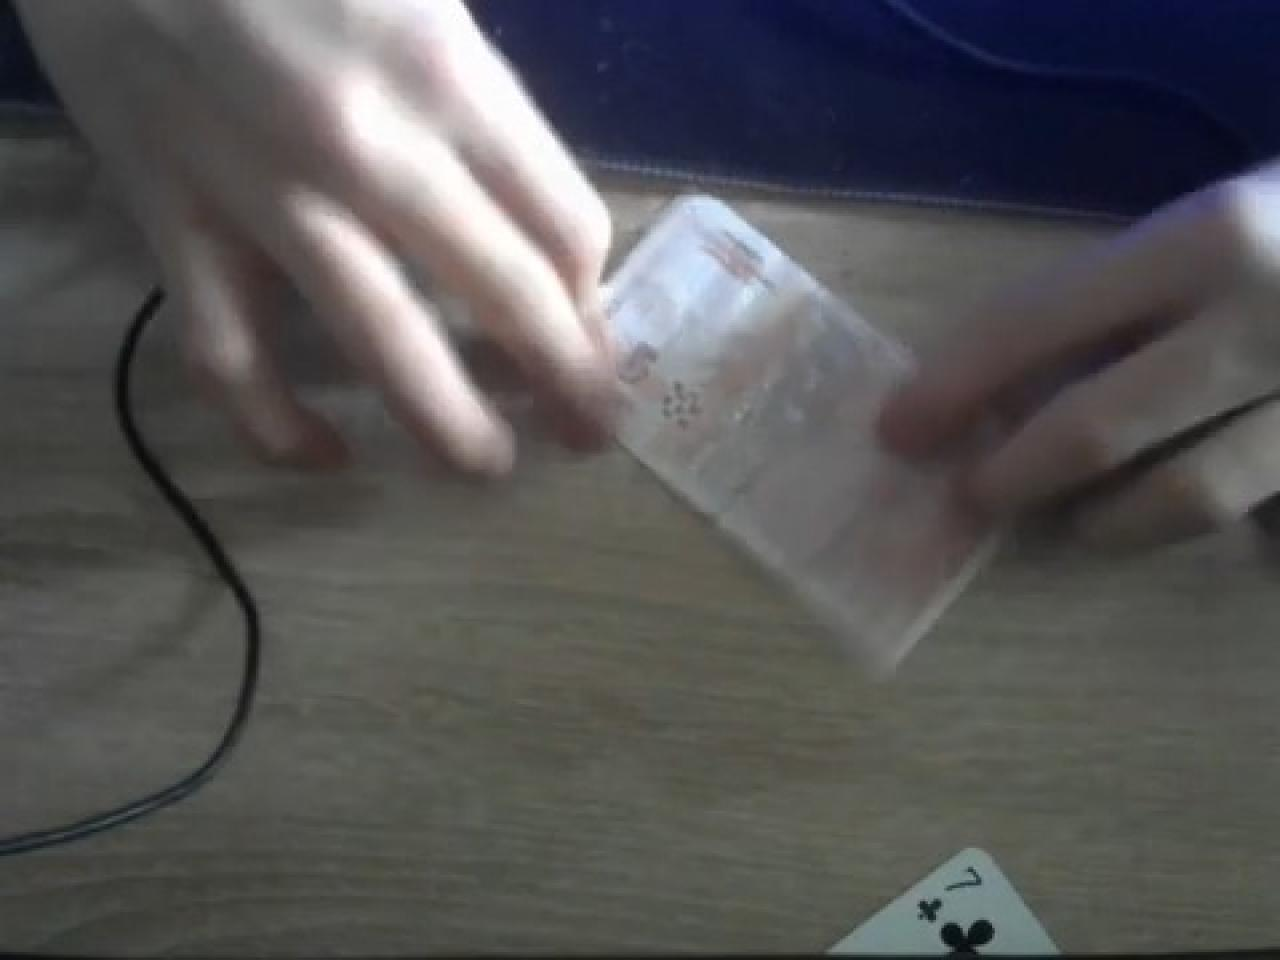5leva: (600, 192, 1029, 683)
